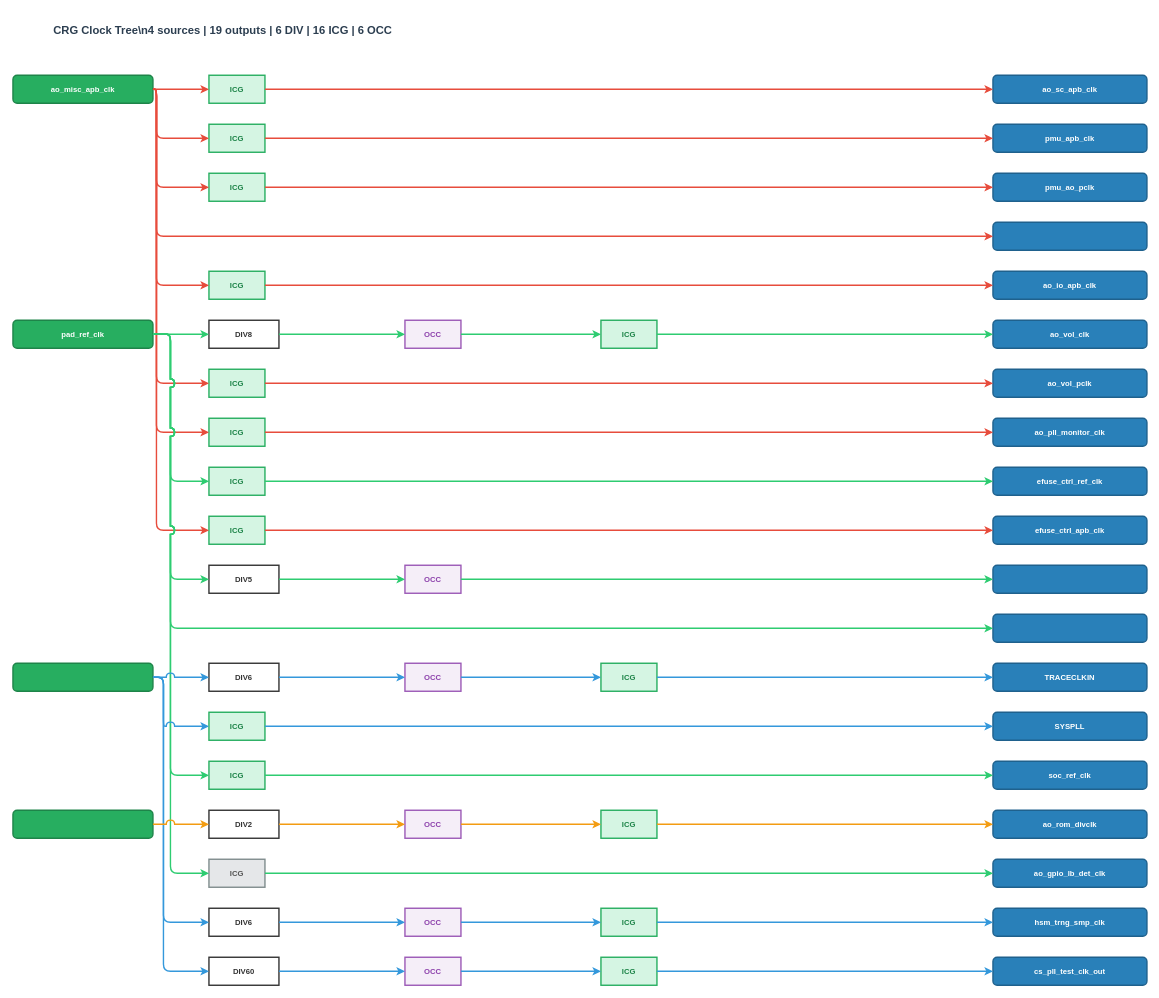
The diagram is 1159 pixels wide and 998 high, and some of its shapes have lost their labels. Here are the shapes that lost their labels. From the top down, the box of each, then its label:
(992, 221, 1147, 251): ao_crg_apb_clk
(992, 564, 1147, 594): S32KCLK
(992, 613, 1147, 643): REFCLK
(12, 662, 153, 692): cs_pll_clk
(12, 809, 153, 839): secencdivclk
